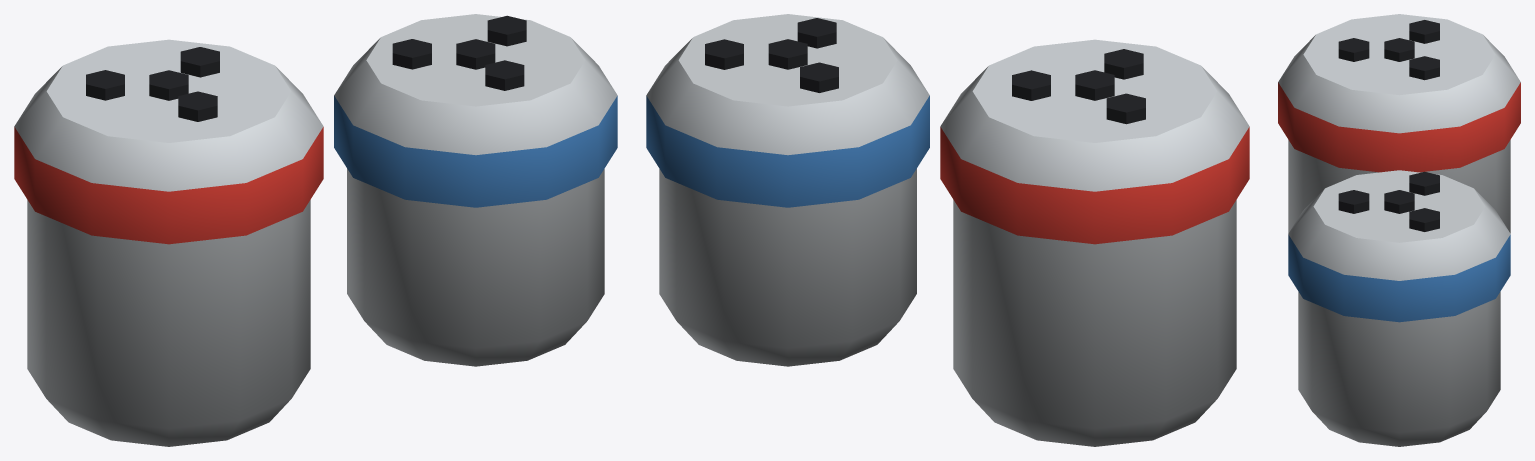
Rendered from SM_Shakers_Dredge_01.glb.
3 renders of one model, left to right at view 1: azimuth 30°, elevation 25°; view 2: azimuth 150°, elevation 25°; view 3: azimuth 270°, elevation 25°, orthographic. The views are drawn at different scales.
Parts seen in each view (by area): view 1: SM_Shakers_Dredge_01; view 2: SM_Shakers_Dredge_01; view 3: SM_Shakers_Dredge_01.
Boxes of the visible parts, x1,y1,x2,y2 form: SM_Shakers_Dredge_01: (14, 14, 617, 446); SM_Shakers_Dredge_01: (646, 14, 1249, 446); SM_Shakers_Dredge_01: (1278, 14, 1520, 446).
Size of the model in its own units: 0.202 by 0.109 by 0.096.
1 material, 1 textured.
